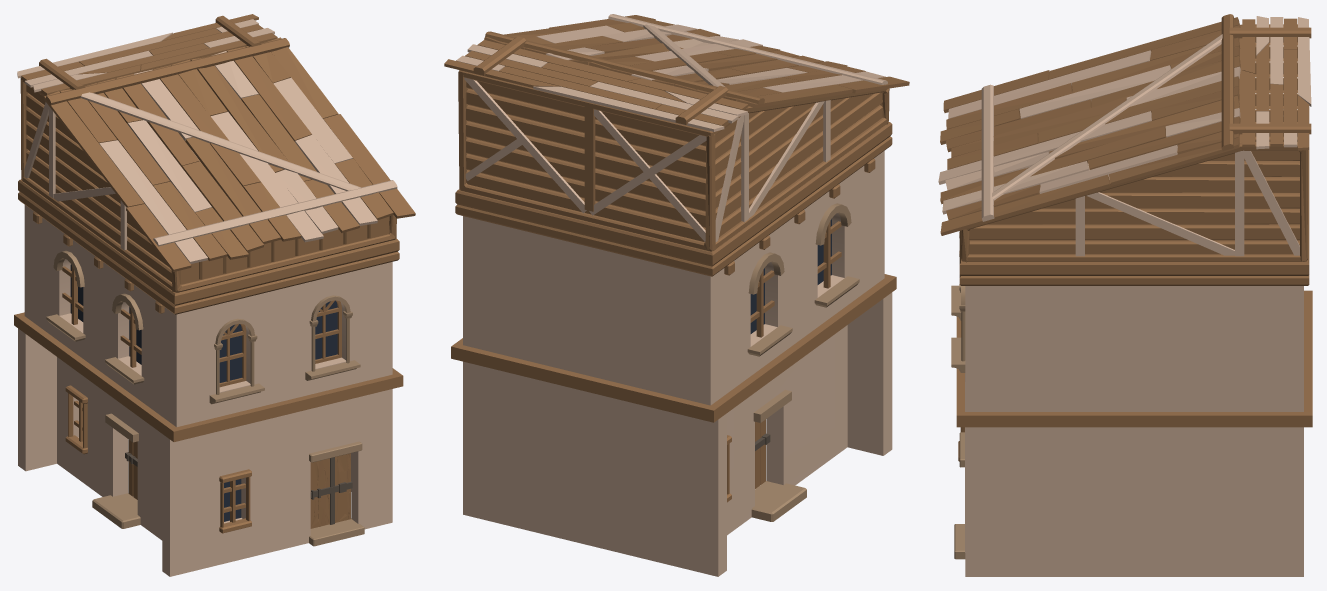
File: civilian_house_37_h.glb
3 views of the same model, side by side, from view 1: azimuth 30°, elevation 25°; view 2: azimuth 150°, elevation 25°; view 3: azimuth 270°, elevation 25° (orthographic). The views are drawn at different scales.
Visible parts, largest first — view 1: civilian_house_37_h; view 2: civilian_house_37_h; view 3: civilian_house_37_h.
Part boxes in pixels (x1,y1,x2,y2): civilian_house_37_h: [14, 14, 415, 576]; civilian_house_37_h: [444, 14, 909, 576]; civilian_house_37_h: [938, 14, 1312, 576].
Size of the model in its own units: 6.49 by 10.08 by 7.73.
